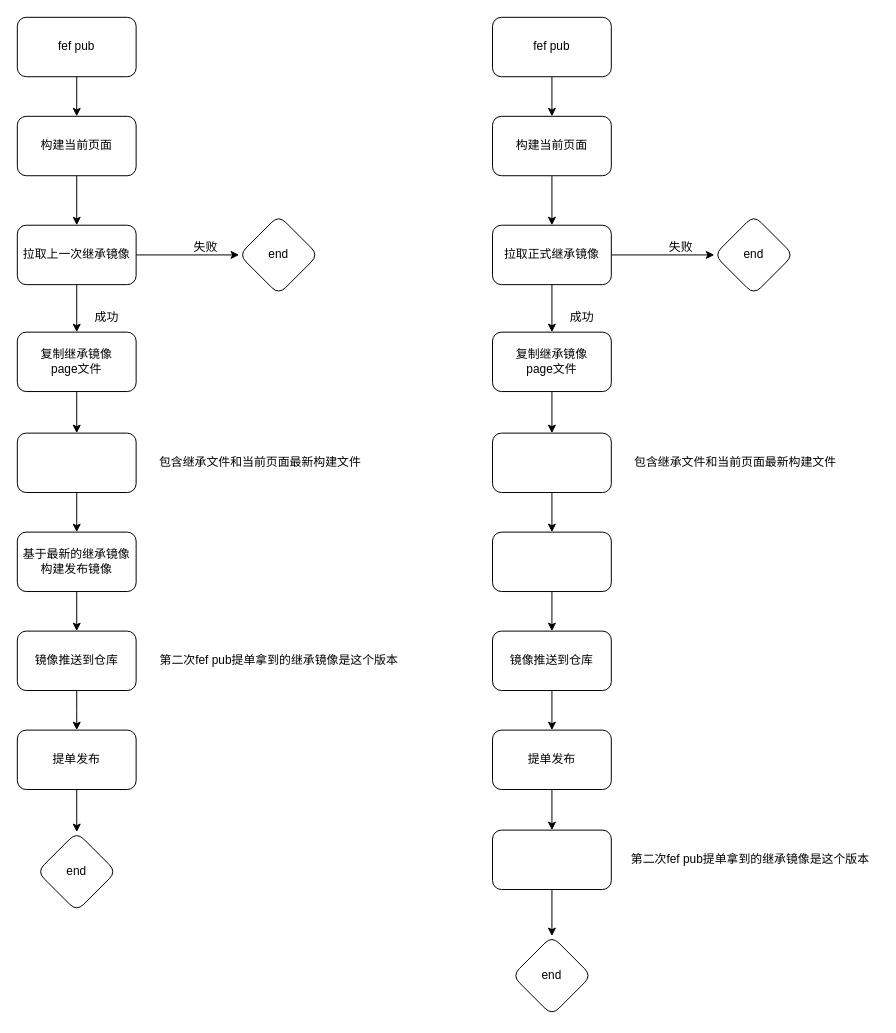
This 896x1033 diagram has some shape labels left out. Here are the shapes that lost their labels. From the top down, the box of each, then its label:
(16, 432, 136, 493): 构建继承镜像
(492, 432, 611, 493): 构建预发布继承镜像
(492, 531, 611, 592): 基于预发布继承镜像 构建发布镜像
(492, 829, 611, 890): 发布完成 构建正式镜像并推动到仓库
